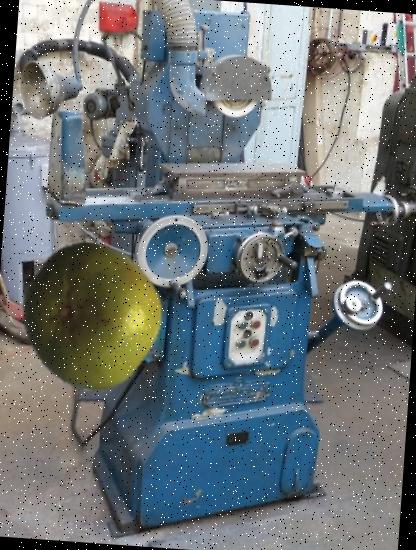Pomelo: (13, 237, 172, 396)
